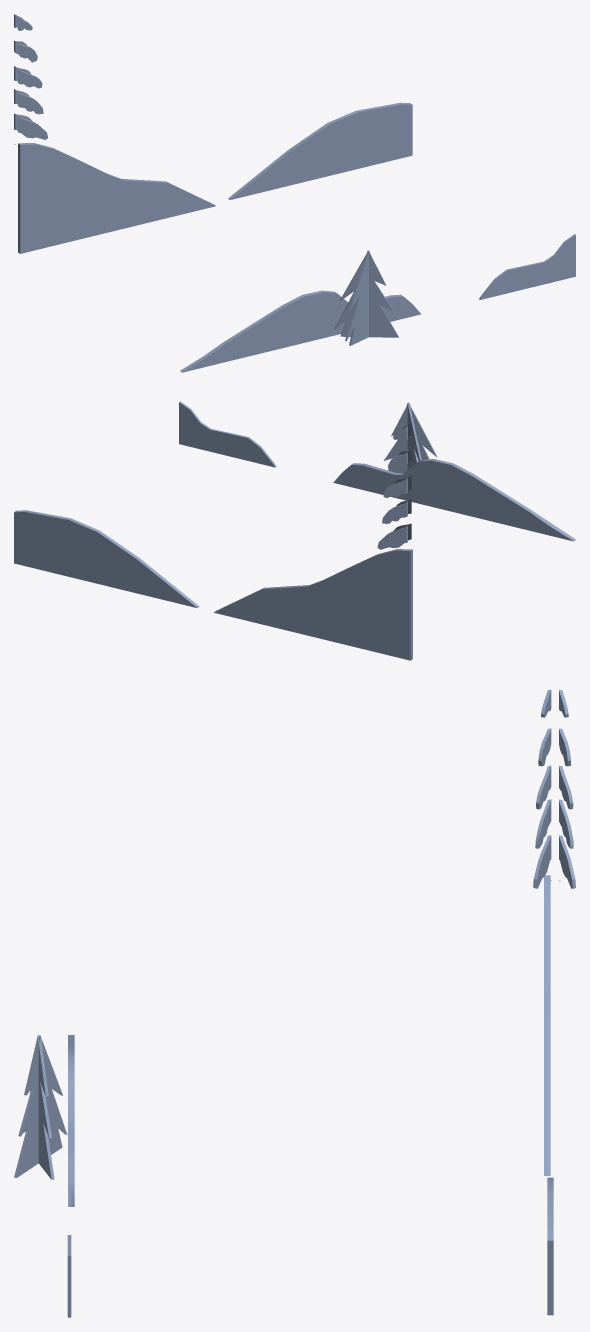
Rendered from frame_0106.glb.
3 renders of one model, top to bottom at view 1: azimuth 30°, elevation 25°; view 2: azimuth 150°, elevation 25°; view 3: azimuth 270°, elevation 25°, orthographic. The views are drawn at different scales.
Visible parts, largest first — view 1: export_trees_001.002; view 2: export_trees_001.002; view 3: export_trees_001.002.
Part boxes in pixels (x1,y1,x2,y2): export_trees_001.002: (14,14,575,372); export_trees_001.002: (14,401,575,660); export_trees_001.002: (14,689,575,1317).
Size of the model in its own units: 0.4327 by 0.2476 by 0.3645.
